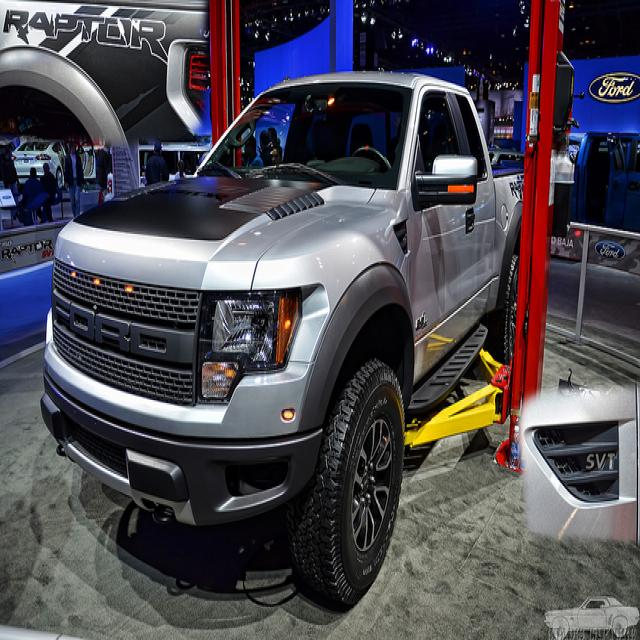Vehicle: (37, 82, 519, 620), (11, 140, 67, 190)
